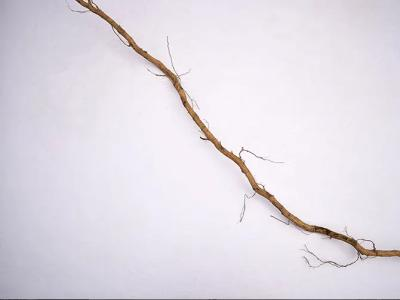Root: (76, 0, 399, 266)
